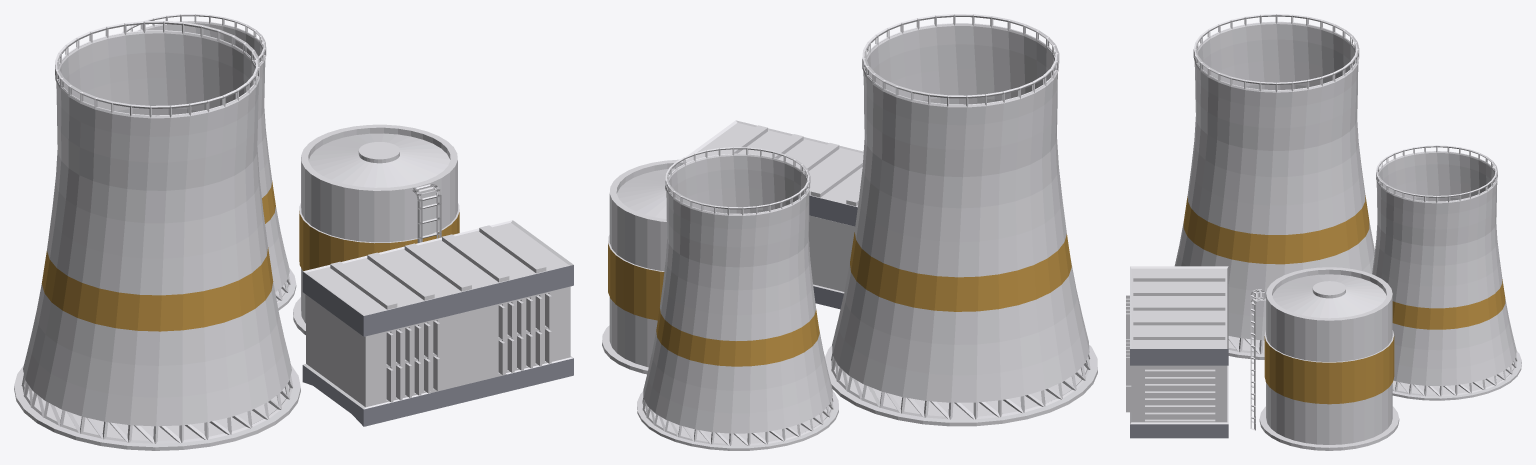
Rendered from nuclear_game.glb.
3 renders of one model, left to right at view 1: azimuth 30°, elevation 25°; view 2: azimuth 150°, elevation 25°; view 3: azimuth 270°, elevation 25°, orthographic. The views are drawn at different scales.
Visible parts, largest first — view 1: Cylinder.008, Cube.017, Cylinder.012, Cylinder.009, Cylinder.010, Cylinder.011, Cylinder.006, Cylinder.015, Cylinder.013; view 2: Cylinder.008, Cylinder.011, Cylinder.012, Cube.017, Cylinder.009, Cylinder.010, Cylinder.014, Cylinder.006, Cylinder.015, Cylinder.007; view 3: Cylinder.008, Cylinder.011, Cylinder.012, Cube.017, Cylinder.010, Cylinder.015, Cylinder.014, Cylinder.007, Cylinder.013, Cylinder.009.
Part boxes in pixels (<box>): Cylinder.008: <box>23,33,291,426</box>; Cube.017: <box>302,220,573,426</box>; Cylinder.012: <box>293,124,459,334</box>; Cylinder.009: <box>14,365,300,450</box>; Cylinder.010: <box>55,21,259,118</box>; Cylinder.011: <box>145,23,289,291</box>; Cylinder.006: <box>21,374,293,443</box>; Cylinder.015: <box>122,14,266,65</box>; Cylinder.013: <box>412,184,441,242</box>; Cylinder.008: <box>832,26,1089,402</box>; Cylinder.011: <box>643,156,832,433</box>; Cylinder.012: <box>602,159,693,374</box>; Cube.017: <box>685,120,863,309</box>; Cylinder.009: <box>825,345,1097,426</box>; Cylinder.010: <box>862,14,1059,107</box>; Cylinder.014: <box>637,391,838,450</box>; Cylinder.006: <box>831,352,1090,419</box>; Cylinder.015: <box>665,147,810,215</box>; Cylinder.007: <box>642,397,833,445</box>; Cylinder.008: <box>1174,24,1374,340</box>; Cylinder.011: <box>1372,153,1516,385</box>; Cylinder.012: <box>1259,267,1399,450</box>; Cube.017: <box>1126,266,1228,438</box>; Cylinder.010: <box>1193,14,1359,92</box>; Cylinder.015: <box>1376,145,1497,203</box>; Cylinder.014: <box>1392,351,1521,400</box>; Cylinder.007: <box>1392,356,1517,396</box>; Cylinder.013: <box>1250,289,1265,430</box>; Cylinder.009: <box>1228,336,1264,359</box>.
Bounding box in the file's own units: 2.72 × 1.97 × 2.55.
